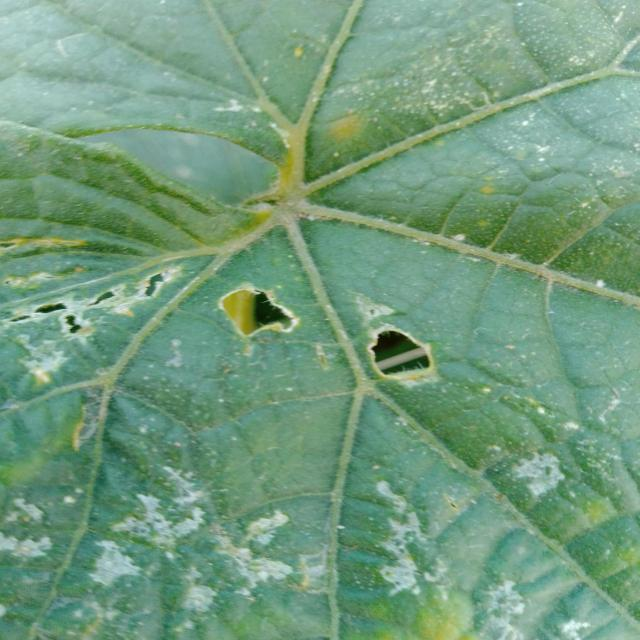cucumber_anthracnose: (3, 30, 630, 615)
